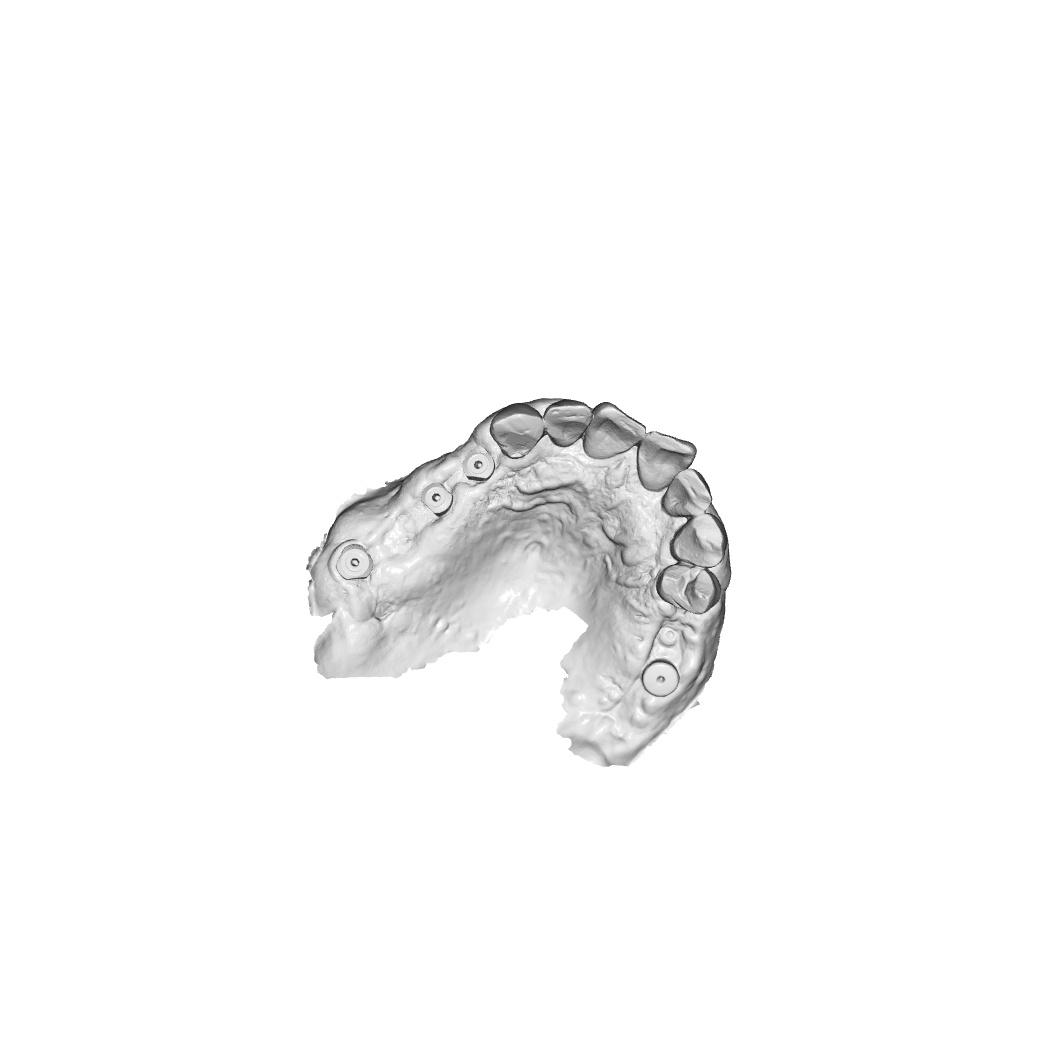canine: (668, 512, 728, 569), (489, 401, 545, 461)
implant: (640, 658, 681, 699), (334, 543, 375, 582), (419, 481, 454, 517), (463, 450, 497, 482)
incisor: (636, 429, 698, 493), (583, 400, 647, 461), (660, 468, 714, 519), (542, 398, 593, 448)
premolar: (654, 562, 722, 616)
